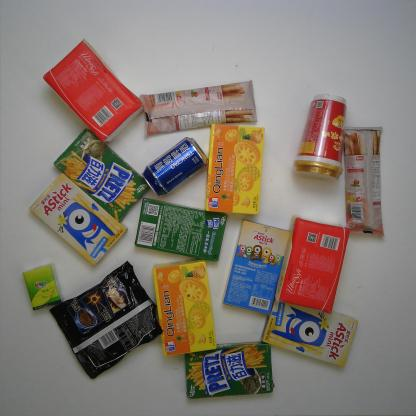Alcohol: (142, 137, 207, 197)
Dessert: (28, 172, 128, 266), (54, 128, 148, 222), (261, 298, 358, 368), (223, 218, 292, 316), (139, 80, 257, 134), (149, 260, 216, 355), (134, 197, 227, 262), (206, 122, 264, 215), (182, 341, 275, 398), (340, 124, 386, 238)
Instant Drink: (292, 93, 347, 182)
Instant Noodles: (49, 260, 163, 380)
Tissue: (40, 38, 143, 142), (274, 216, 352, 314), (23, 265, 62, 311)
